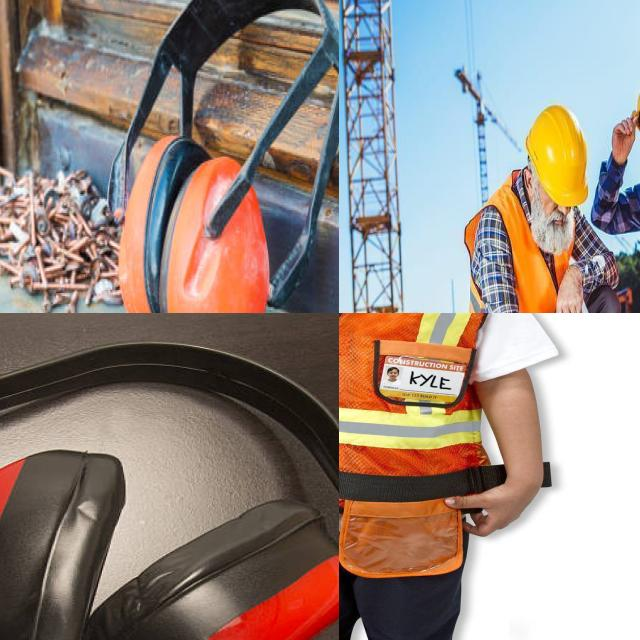Ear-protection: (0, 333, 339, 640), (93, 0, 339, 313)
hand_noglove: (447, 472, 541, 542), (554, 260, 595, 313), (613, 113, 638, 172)
head_helmet: (520, 103, 594, 208), (619, 74, 640, 129)
person: (339, 313, 575, 640), (458, 94, 616, 313)
vest: (339, 313, 505, 496), (459, 194, 575, 313)
